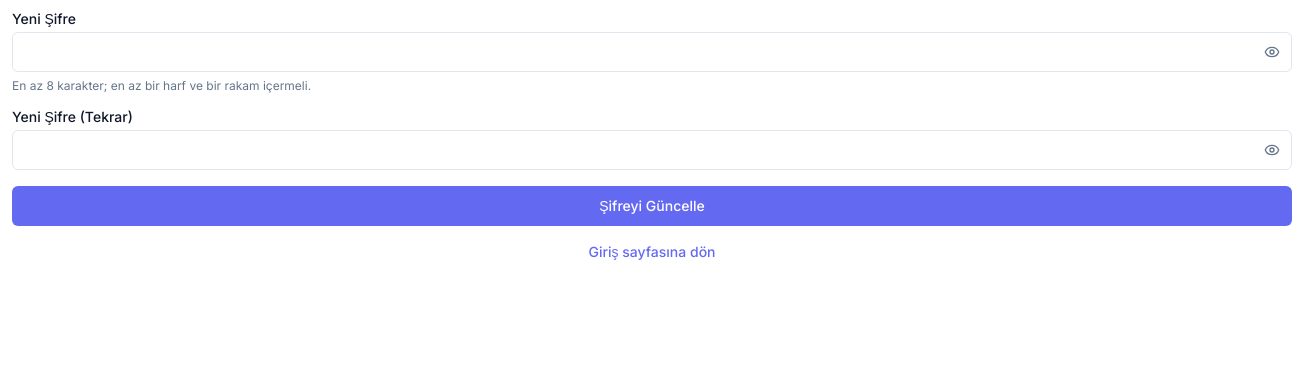
Test: Şifre sıfırlama — süresi dolmuş bağlantıda yeni bağlantı düğmesi (AJ-36) › sunucu token'ı reddedince "Yeni bağlantı talep et" düğmesi /forgot-password'a gider
Expected: the link "Yeni bağlantı talep et" is not shown
Step 1. Type "GucluSifre123!" into the password field labelled "Yeni Şifre" → x=652, y=52, box [12,32,1292,72]
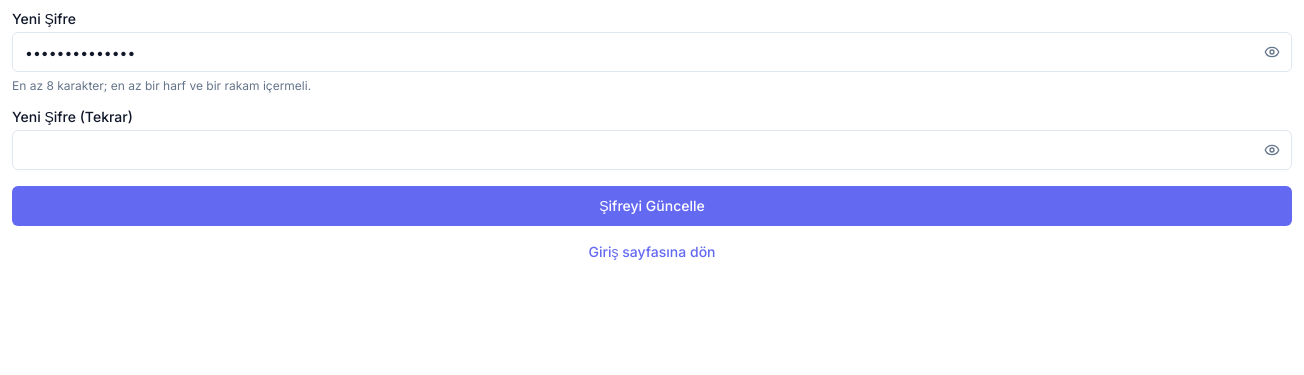
Step 2. Type "GucluSifre123!" into the password field labelled "Yeni Şifre (Tekrar)" → x=652, y=150, box [12,130,1292,170]
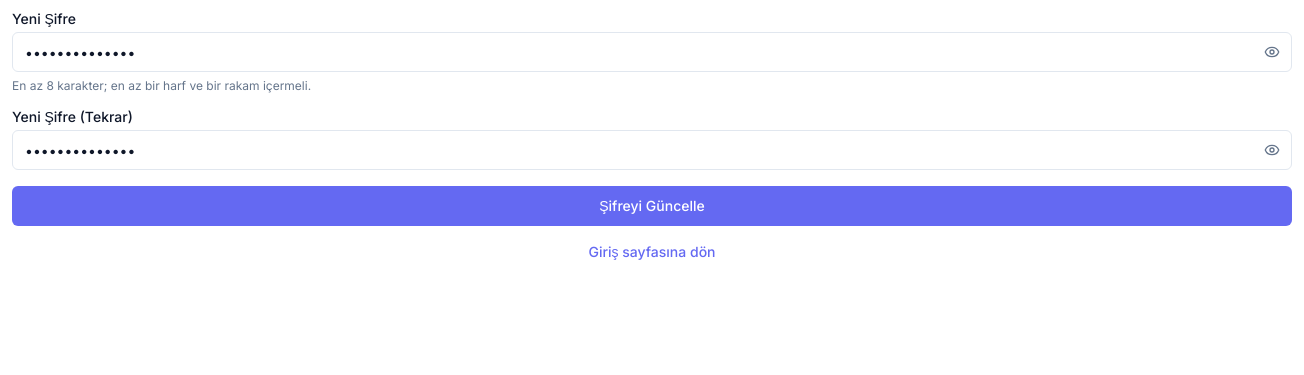
Step 3. Click the button "Şifreyi Güncelle" → x=652, y=206, box [12,186,1292,226]
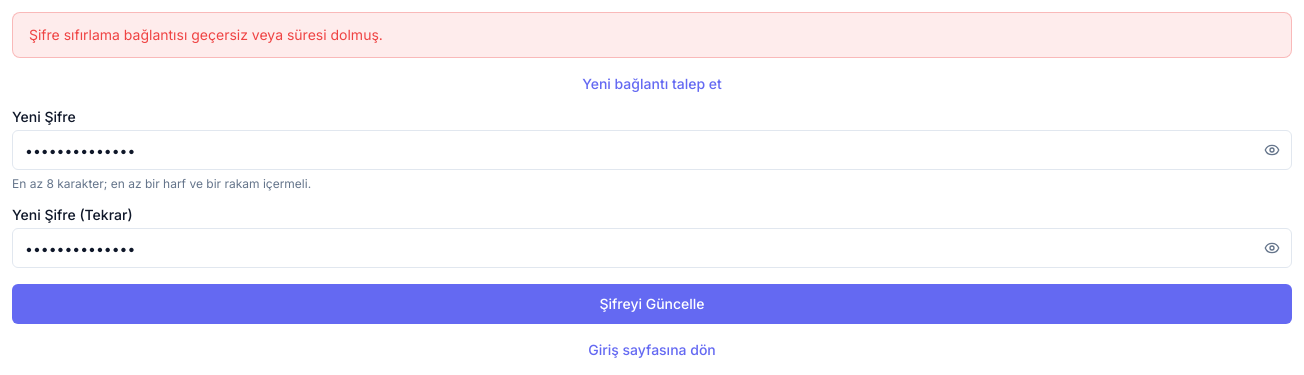
Expected: the text "Şifre sıfırlama bağlantısı geçersiz veya süresi dolmuş." is shown, [12,12,1292,58]
